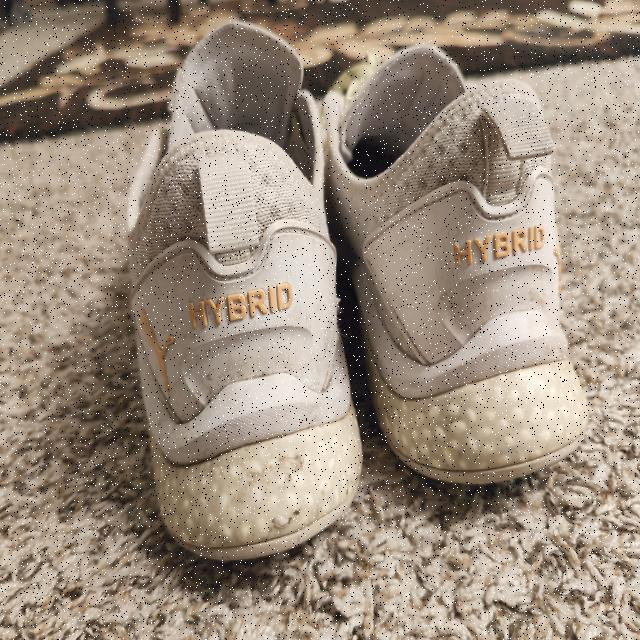white shoes: (146, 133, 586, 511)
